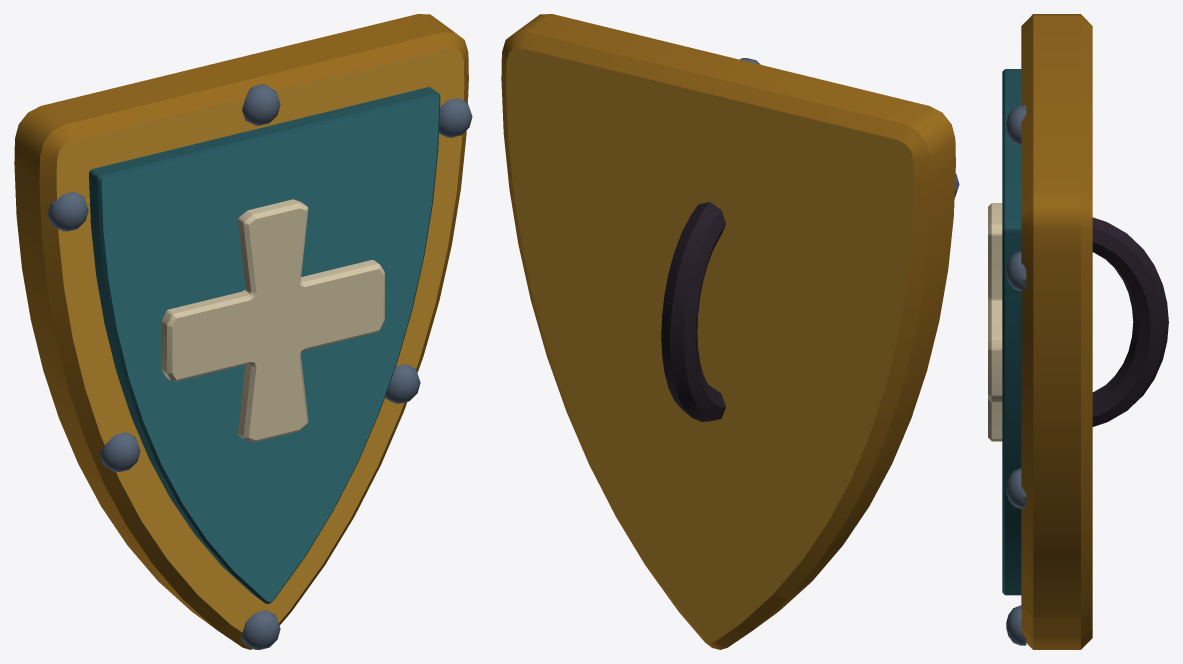
Rendered from HeaterShield_07.glb.
3 views of the same model, side by side, from view 1: azimuth 30°, elevation 25°; view 2: azimuth 150°, elevation 25°; view 3: azimuth 270°, elevation 25° (orthographic). The views are drawn at different scales.
Parts seen in each view (by area): view 1: HeaterShield_07; view 2: HeaterShield_07; view 3: HeaterShield_07.
Boxes of the visible parts, box(x1,y1,x2,y2) form: HeaterShield_07: box(14, 14, 472, 649); HeaterShield_07: box(501, 14, 959, 649); HeaterShield_07: box(988, 14, 1168, 649).
Bounding box in the file's own units: 1.99 × 2.52 × 0.76.
